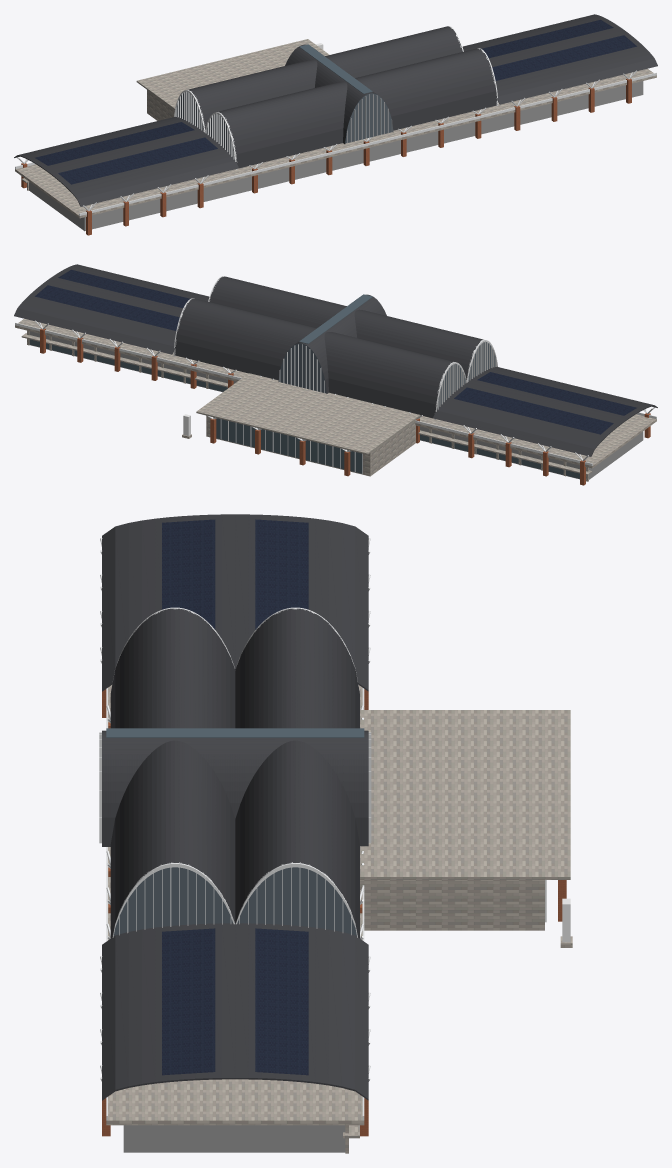
File: station2016.glb
3 views of the same model, one above another, from view 1: azimuth 30°, elevation 25°; view 2: azimuth 150°, elevation 25°; view 3: azimuth 270°, elevation 25° (orthographic). The views are drawn at different scales.
Parts seen in each view (by area): view 1: cross; view 2: cross; view 3: cross.
Part boxes in pixels (bbox=[...]): cross: bbox=[14, 14, 657, 235]; cross: bbox=[14, 264, 657, 485]; cross: bbox=[99, 514, 572, 1153].
Size of the model in its own units: 310 by 37.75 by 110.
9 materials, 5 textured.
